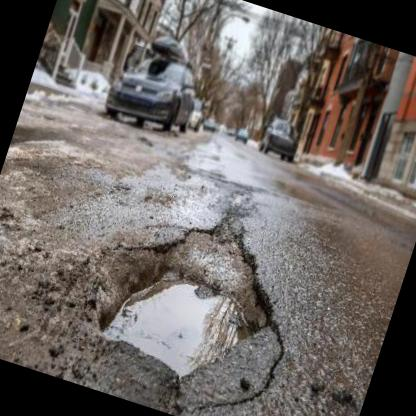pothole: (82, 197, 296, 400), (9, 116, 63, 162)
